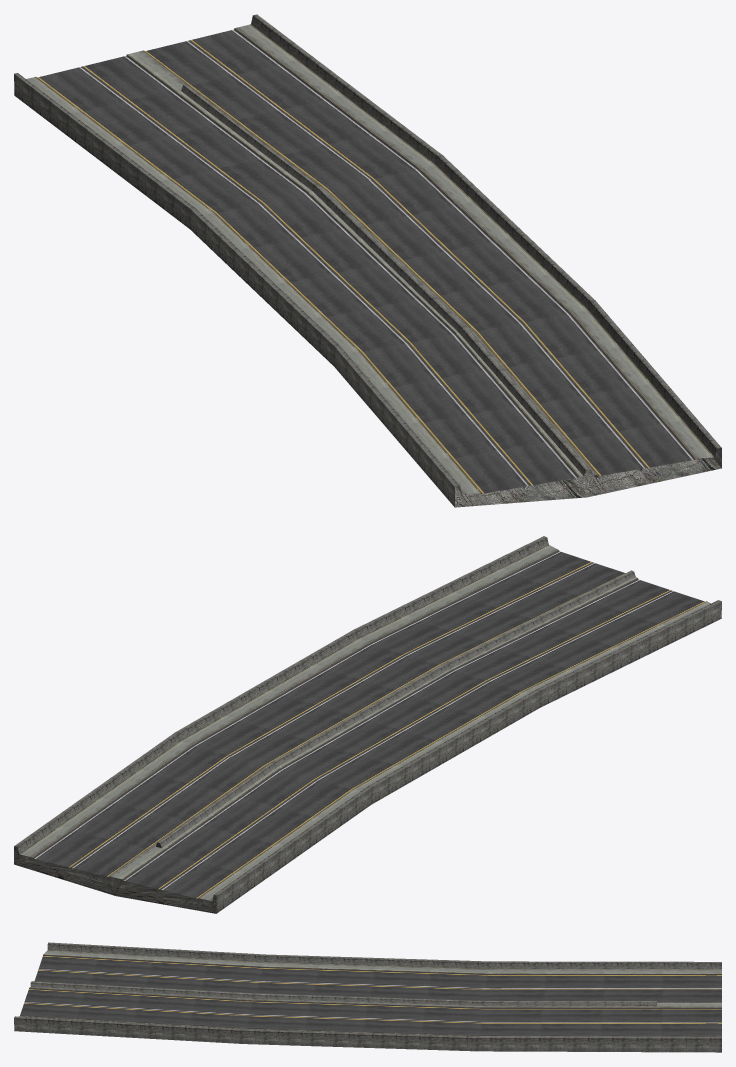
File: gsfreeway7_lan.obj
3 views of the same model, one above another, from view 1: azimuth 30°, elevation 25°; view 2: azimuth 150°, elevation 25°; view 3: azimuth 270°, elevation 25° (orthographic). The views are drawn at different scales.
Parts seen in each view (by area): view 1: GSFreeway7_LAn; view 2: GSFreeway7_LAn; view 3: GSFreeway7_LAn.
Part boxes in pixels (<box>): GSFreeway7_LAn: <box>14,14,721,507</box>; GSFreeway7_LAn: <box>14,536,721,913</box>; GSFreeway7_LAn: <box>14,942,721,1052</box>.
Size of the model in its own units: 49.28 by 5.82 by 144.
